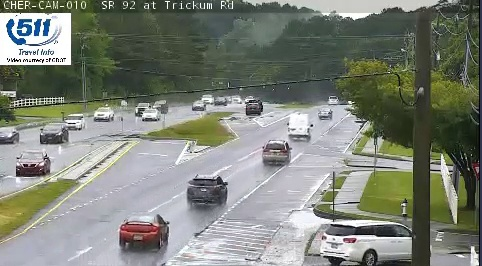car: (120, 215, 170, 243), (187, 175, 226, 202), (263, 140, 289, 163), (318, 107, 332, 119)
van: (288, 113, 310, 139)
